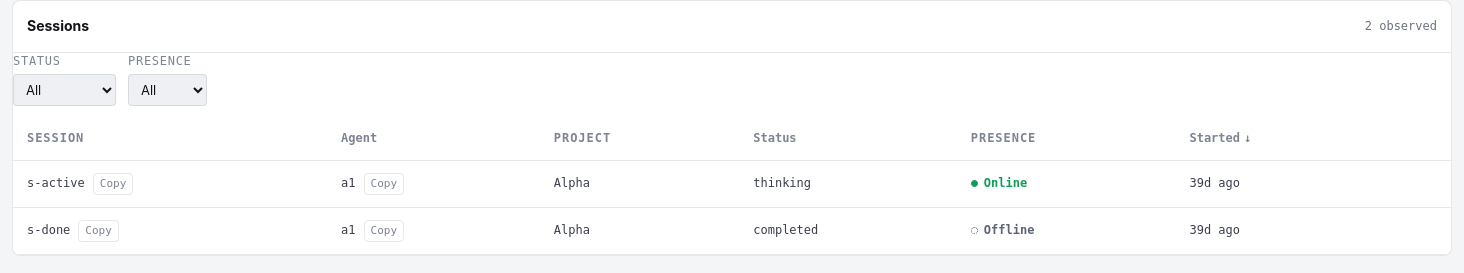
Test case: SessionsView › filters by status without discarding the total count
This screenshot has width=1464, height=273.
Select "completed" in the dropdown labelled "Status" at x=64, y=90, box [13,74,116,106]
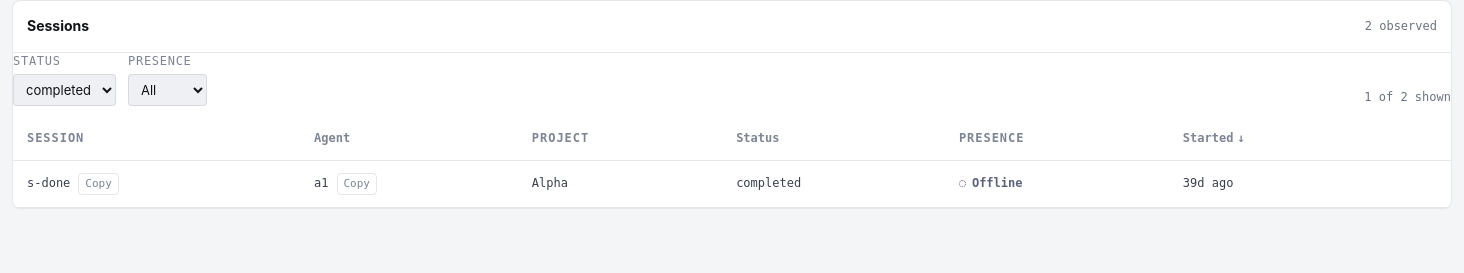
Check: the text "s-done" is shown, box [27,175,70,192]
Check: the text "s-active" is gone
Check: the text "1 of 2 shown" is shown, box [1364,89,1451,106]
